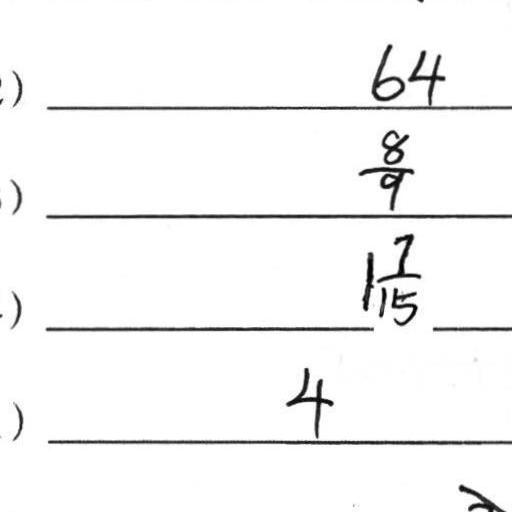ans: (354, 227, 423, 327), (365, 36, 445, 105), (354, 122, 414, 210), (281, 362, 334, 436)
